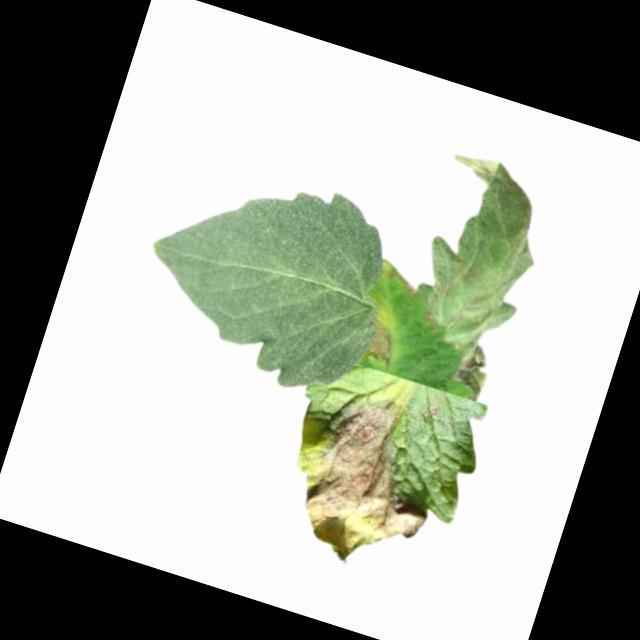Late_blight: (396, 146, 582, 374), (264, 380, 456, 586), (449, 341, 500, 402), (359, 314, 402, 364), (422, 401, 444, 424)
healthy: (122, 143, 411, 407)
